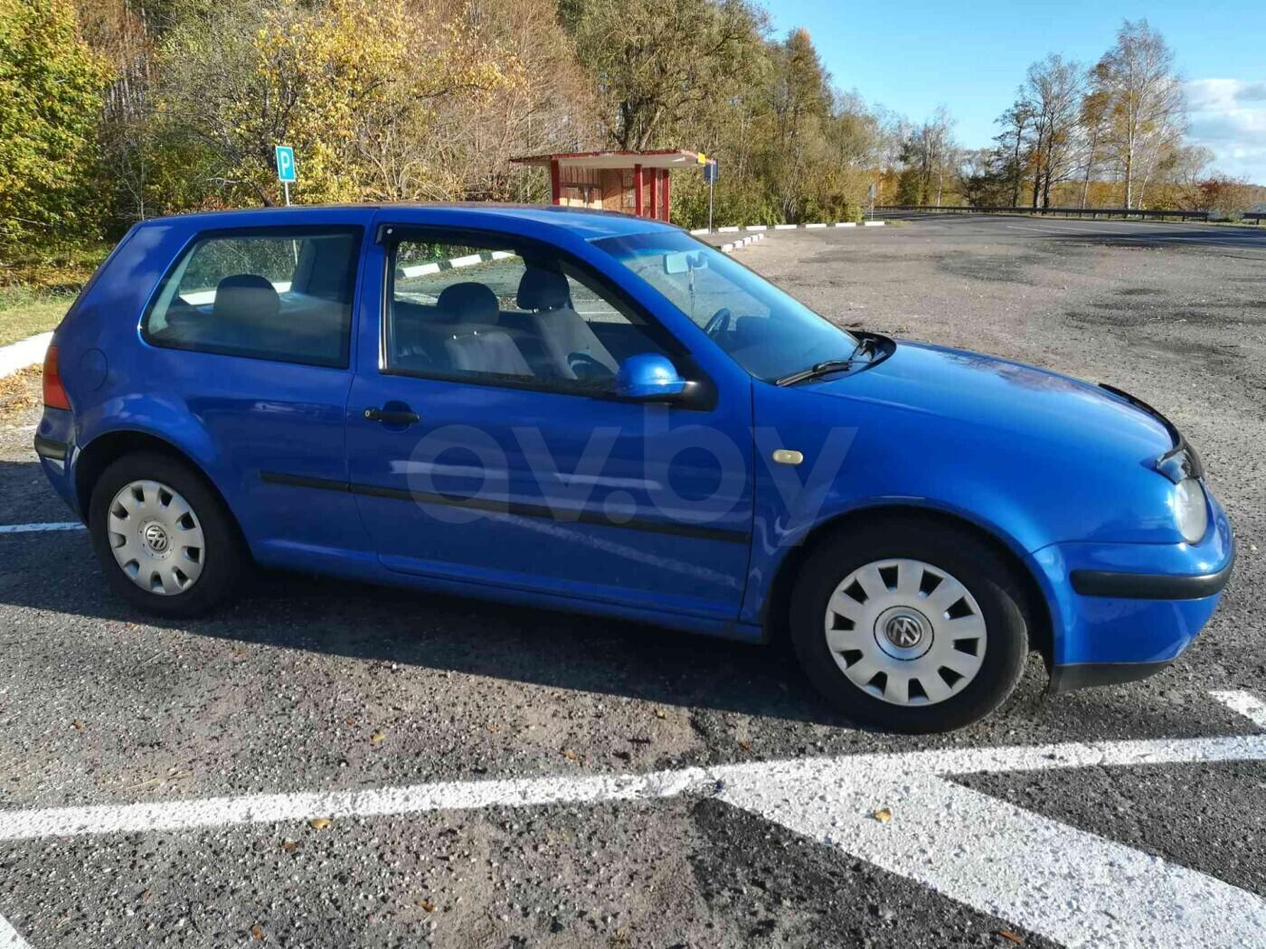Golf_1997-2006: (29, 190, 1228, 725)
